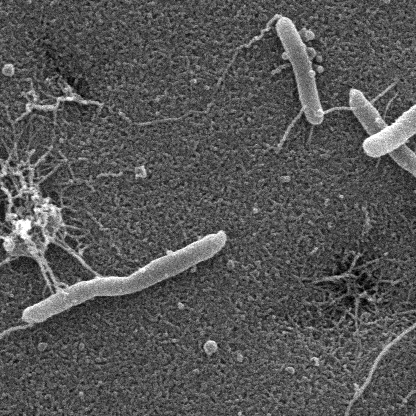cell2surface: (342, 278, 416, 416), (55, 228, 112, 282), (32, 237, 69, 291), (277, 102, 314, 150)
filament: (21, 228, 230, 330), (349, 91, 416, 283)
regular: (273, 15, 325, 126), (364, 102, 416, 159)
